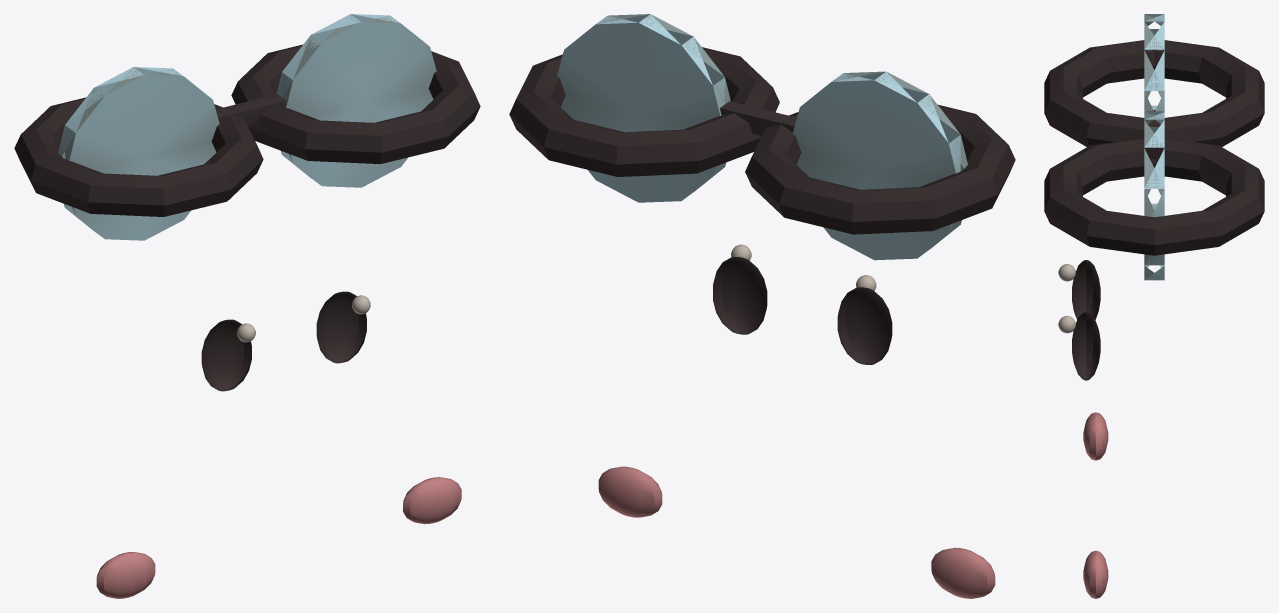
3 views of the same model, side by side, from view 1: azimuth 30°, elevation 25°; view 2: azimuth 150°, elevation 25°; view 3: azimuth 270°, elevation 25° (orthographic). The views are drawn at different scales.
Parts seen in each view (by area): view 1: pet_p5ab3e1a9; view 2: pet_p5ab3e1a9; view 3: pet_p5ab3e1a9.
Part boxes in pixels (<box>): pet_p5ab3e1a9: <box>14,14,480,598</box>; pet_p5ab3e1a9: <box>509,14,1015,598</box>; pet_p5ab3e1a9: <box>1044,14,1264,598</box>.
Bounding box in the file's own units: 0.34 × 0.3684 × 0.1617.
